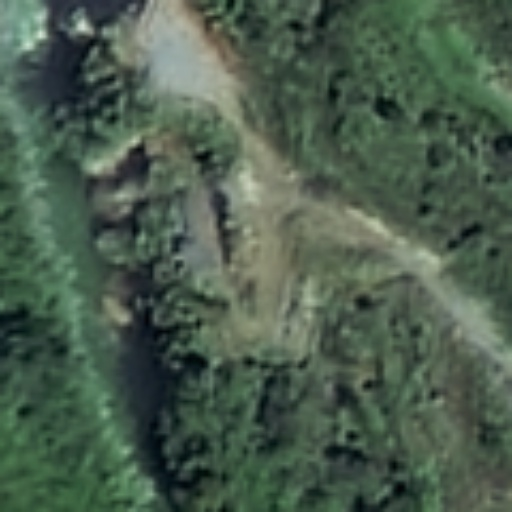landslide: (220, 137, 377, 350), (132, 1, 241, 115)
